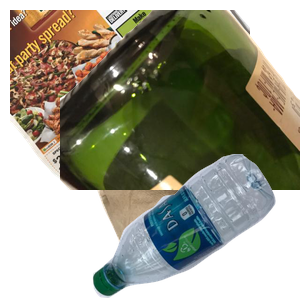glass: (60, 10, 300, 190)
paper: (10, 10, 250, 190)
plastic: (90, 154, 300, 300)
trash: (79, 123, 281, 300)
